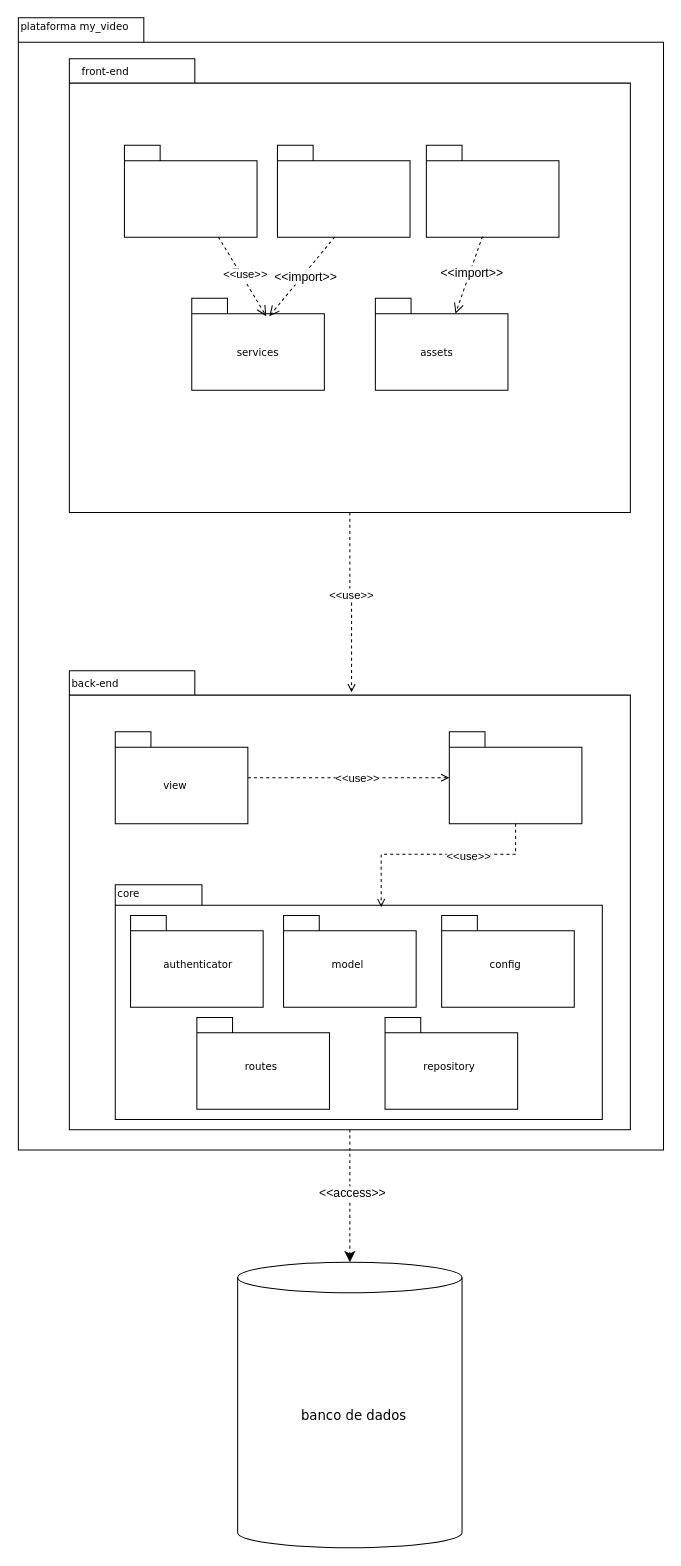
Image size: 681x1566. Some labels were removed from this diagram. The box of each missing label's shape, as (x1, y1, x2, y2) in pixels:
components: (425, 144, 559, 237)
controller: (448, 731, 582, 824)
pages: (123, 144, 257, 237)
tests: (276, 144, 410, 237)
